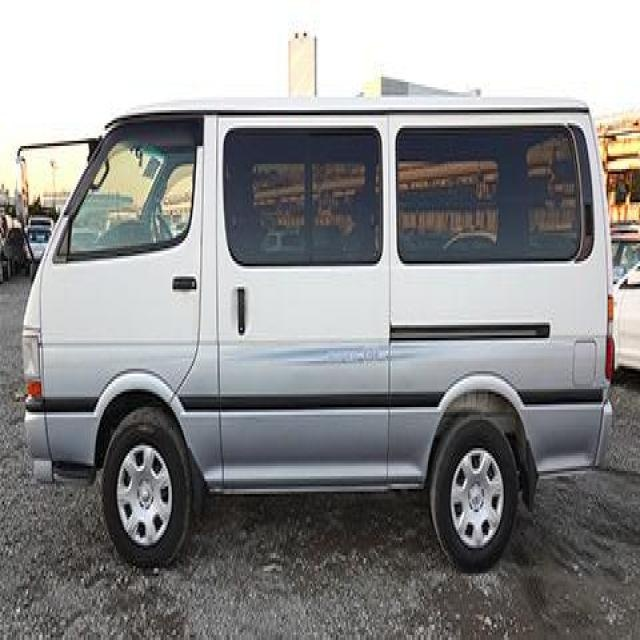Van: (24, 94, 616, 556)
